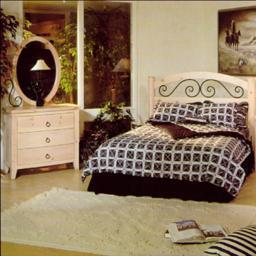Cama: (105, 77, 254, 202)
Otro Obstaculo: (164, 213, 229, 244)
